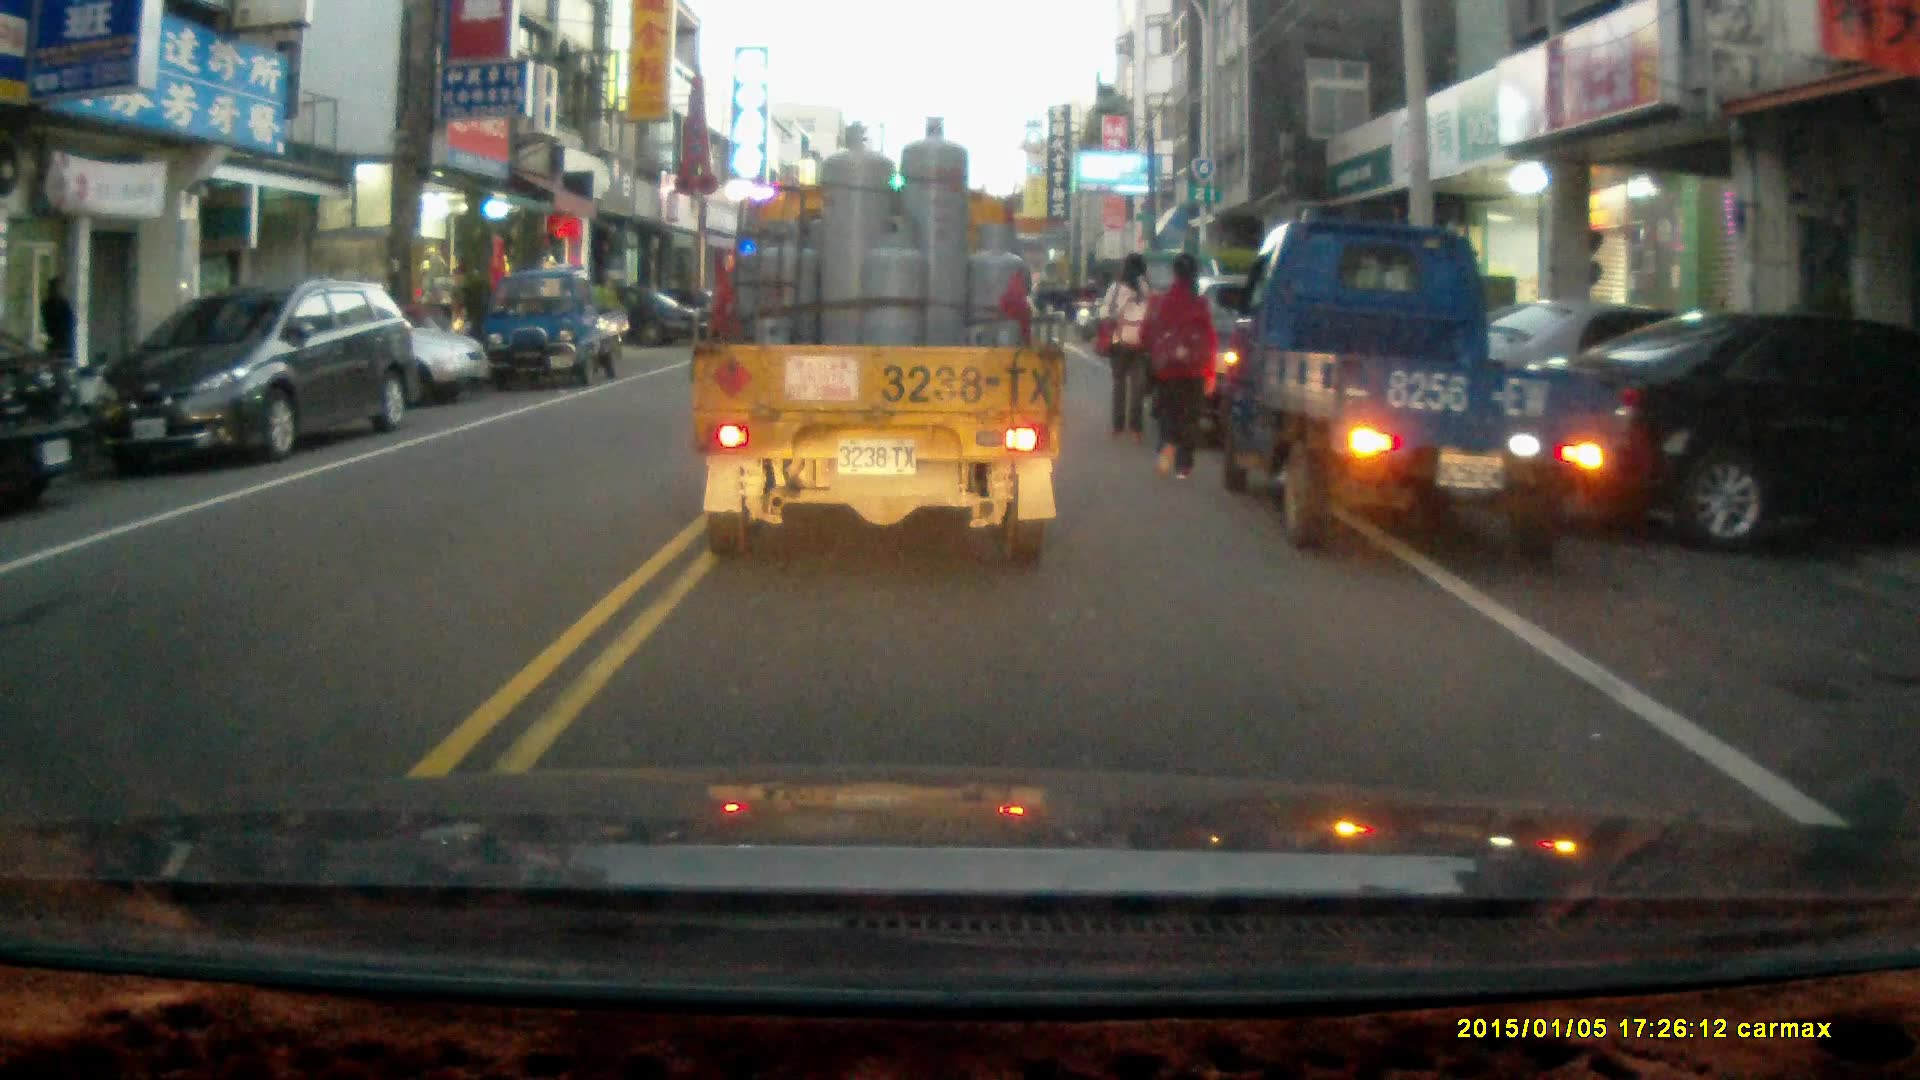pedestrian: (1132, 251, 1215, 478), (1098, 251, 1162, 447), (34, 272, 78, 394)
rider: (1069, 277, 1099, 340)
vehicle: (688, 118, 1067, 573), (1215, 222, 1618, 571), (92, 281, 419, 471), (229, 292, 492, 414), (479, 273, 623, 396), (1, 332, 98, 510)
